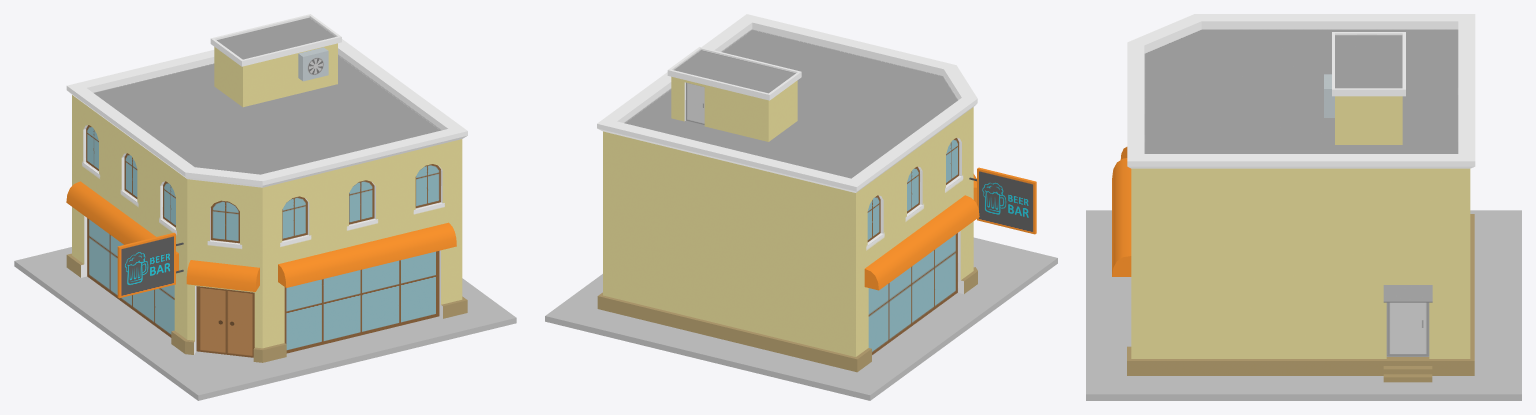
File: BarBeer.glb
The picture shows the model from 3 angles, left to right: view 1: azimuth 30°, elevation 25°; view 2: azimuth 150°, elevation 25°; view 3: azimuth 270°, elevation 25°; orthographic projection. The views are drawn at different scales.
Visible parts, largest first — view 1: bar; view 2: bar; view 3: bar.
Part boxes in pixels (x1,y1,x2,y2): bar: (14,14,516,400); bar: (545,14,1057,400); bar: (1086,14,1521,400).
Size of the model in its own units: 6.55 by 4.1 by 6.
1 material, 1 textured.
